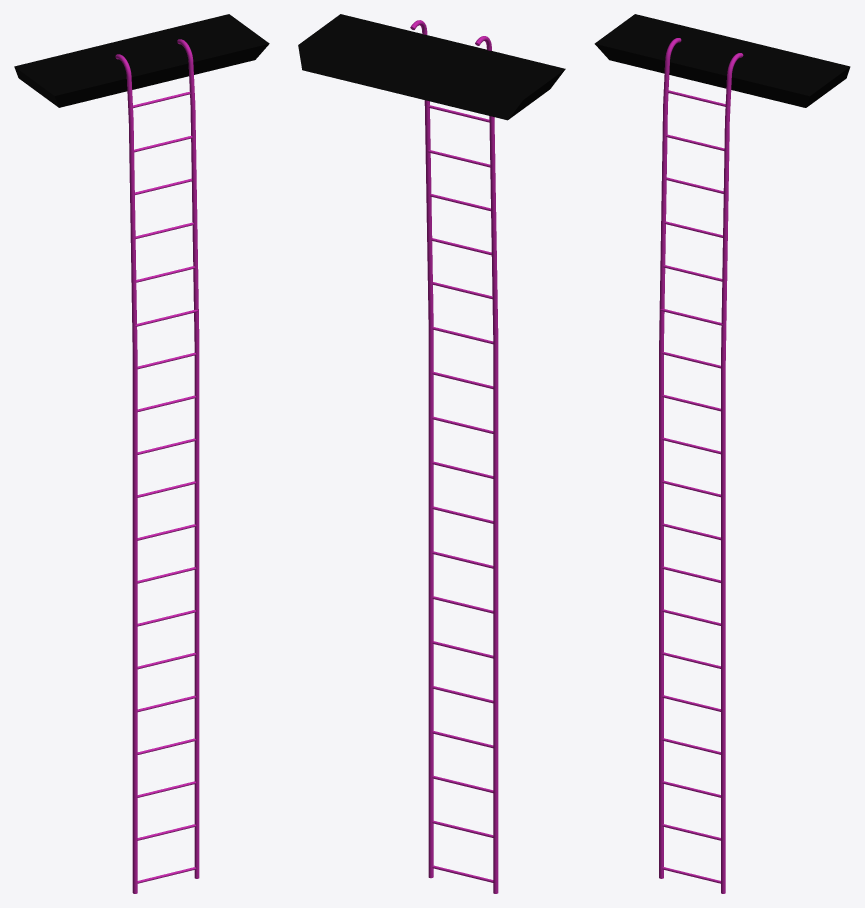
The model's file is 사다리.fbx.
3 views of the same model, side by side, from view 1: azimuth 30°, elevation 25°; view 2: azimuth 150°, elevation 25°; view 3: azimuth 330°, elevation 25° (orthographic). The views are drawn at different scales.
Visible parts, largest first — view 1: 사다리; view 2: 사다리; view 3: 사다리.
Boxes of the visible parts, x1,y1,x2,y2 form: 사다리: (14,14,269,893); 사다리: (298,14,565,893); 사다리: (594,14,850,893).
Size of the model in its own units: 138 by 506 by 59.68.
